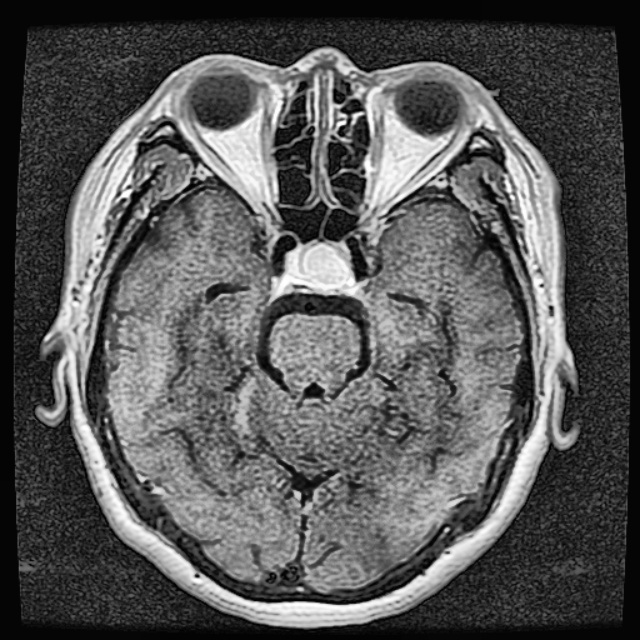Pituitary: (284, 242, 350, 293)
